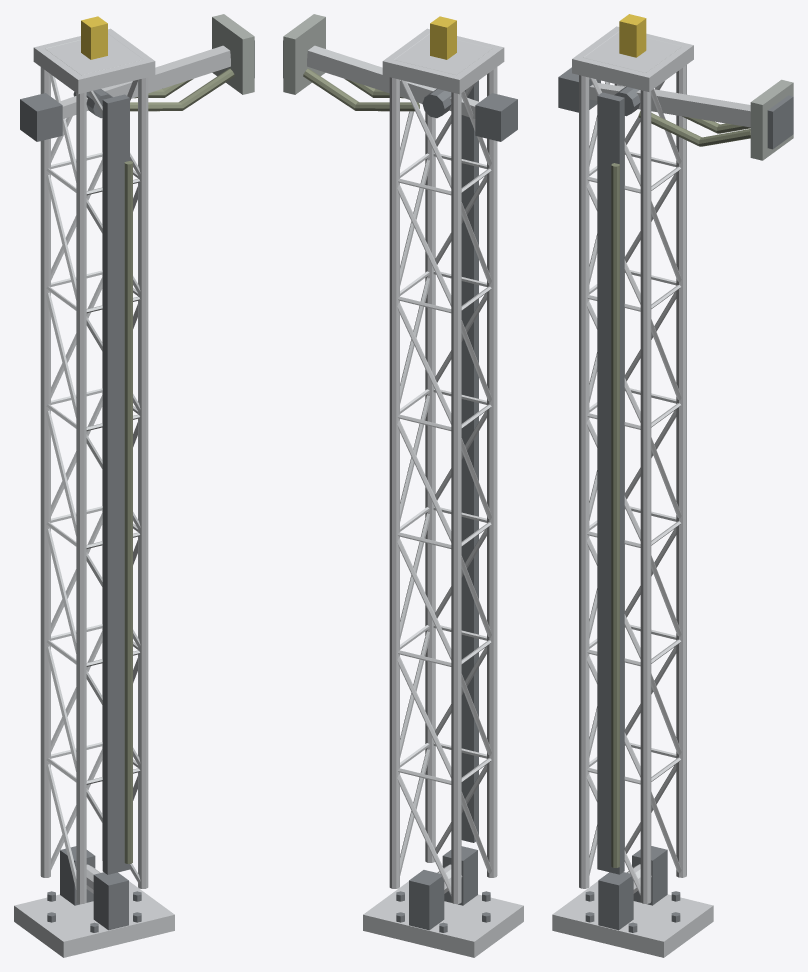
Rendered from cold-war-missile-silo-and-command-bunker-umbilical-mas-0695df4d__15658.glb.
3 renders of one model, left to right at view 1: azimuth 30°, elevation 25°; view 2: azimuth 150°, elevation 25°; view 3: azimuth 330°, elevation 25°, orthographic.
Parts seen in each view (by area): view 1: umbilical-mast, umbilical-arm (×4); view 2: umbilical-mast, umbilical-arm (×4); view 3: umbilical-mast, umbilical-arm (×4).
Part boxes in pixels (x1=…): umbilical-mast: x1=14, y1=16, x2=174, y2=957; umbilical-arm (×4): x1=20, y1=14, x2=254, y2=141; umbilical-mast: x1=363, y1=16, x2=523, y2=957; umbilical-arm (×4): x1=283, y1=14, x2=517, y2=141; umbilical-mast: x1=552, y1=14, x2=713, y2=957; umbilical-arm (×4): x1=558, y1=67, x2=793, y2=160.
Size of the model in its own units: 2.52 by 10.08 by 1.07.
